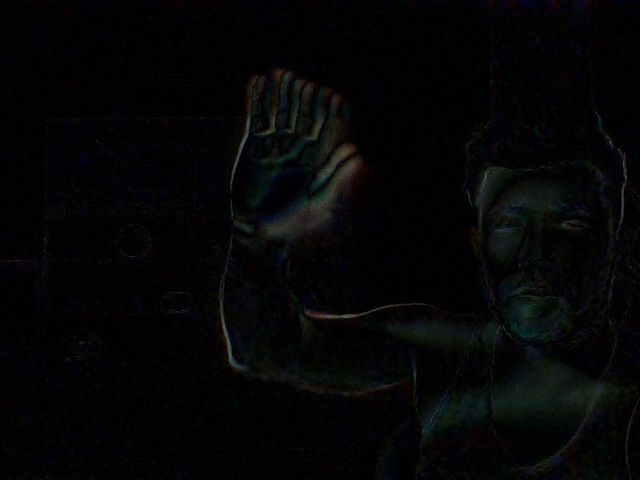arm_fo: (203, 49, 364, 351)
